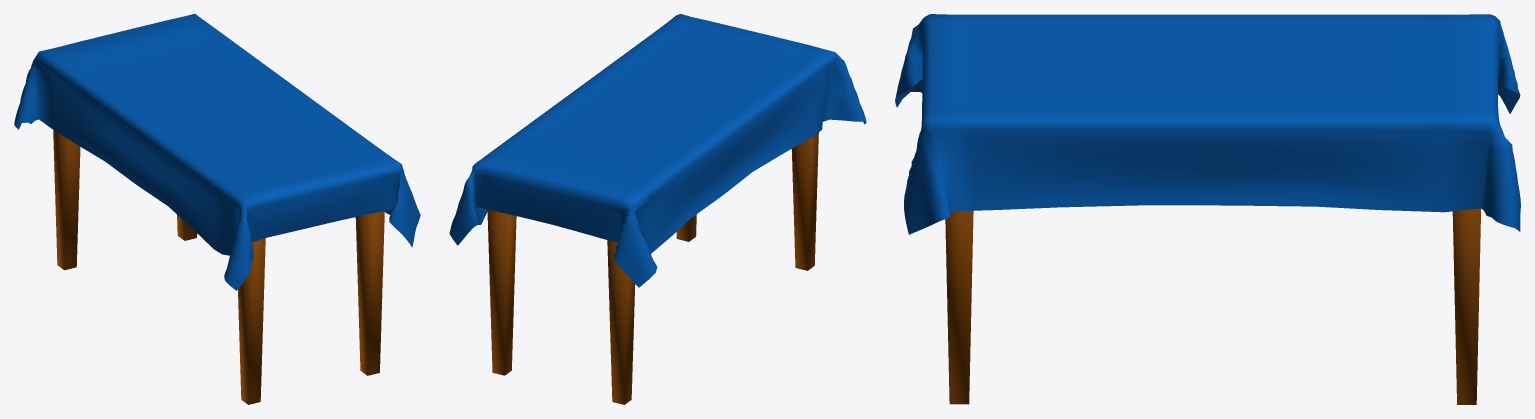
File: Table.fbx
3 views of the same model, side by side, from view 1: azimuth 30°, elevation 25°; view 2: azimuth 150°, elevation 25°; view 3: azimuth 270°, elevation 25° (orthographic). The views are drawn at different scales.
Parts seen in each view (by area): view 1: Table; view 2: Table; view 3: Table.
Boxes of the visible parts, x1,y1,x2,y2 form: Table: [14, 14, 420, 404]; Table: [449, 14, 866, 404]; Table: [895, 14, 1520, 404].
Bounding box in the file's own units: 118 × 117 × 224.
